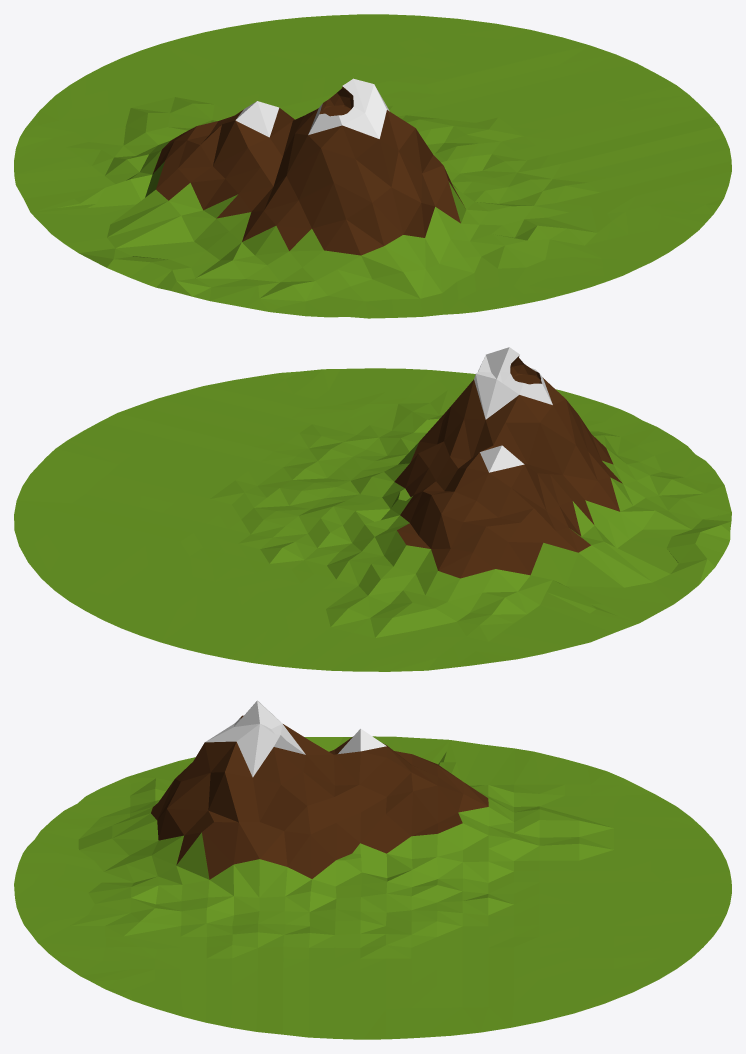
The model's file is Mountain6.glb.
3 renders of one model, top to bottom at view 1: azimuth 30°, elevation 25°; view 2: azimuth 150°, elevation 25°; view 3: azimuth 270°, elevation 25°, orthographic.
Visible parts, largest first — view 1: Plane.007, Plane.004, Plane.001; view 2: Plane.007, Plane.004, Plane.001; view 3: Plane.007, Plane.004, Plane.001.
Part boxes in pixels (<box>): Plane.007: <box>14,14,731,318</box>; Plane.004: <box>153,86,463,255</box>; Plane.001: <box>235,78,389,138</box>; Plane.007: <box>14,368,731,671</box>; Plane.004: <box>394,356,622,578</box>; Plane.001: <box>474,347,552,472</box>; Plane.007: <box>14,736,731,1039</box>; Plane.004: <box>151,715,488,879</box>; Plane.001: <box>205,700,386,777</box>.
Size of the model in its own units: 107 by 24.57 by 107.
